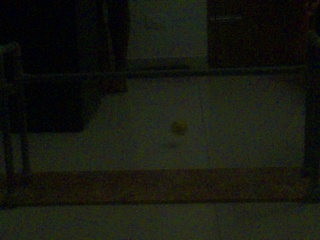ball: (170, 120, 187, 135)
